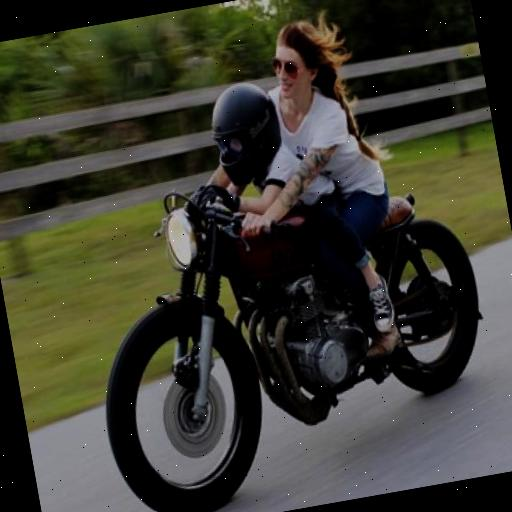no helmet: (43, 0, 438, 501)
